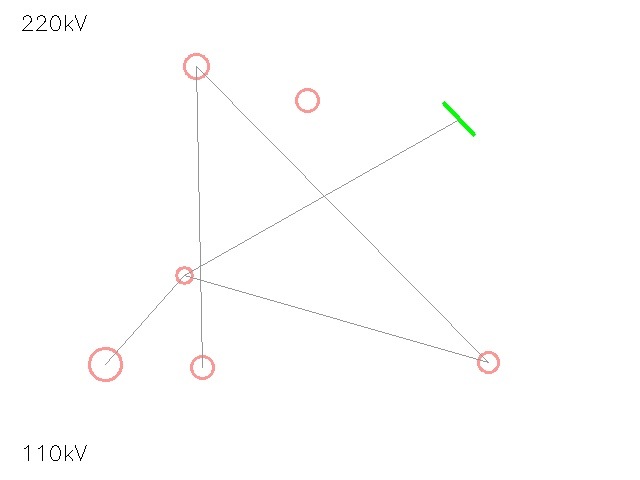busbar: (433, 93, 485, 145)
disconnect_switch: (180, 345, 224, 389)
fuse: (168, 259, 200, 291)
load_break_switch: (172, 42, 220, 90)
reactor: (73, 332, 137, 396)
surge_arrester: (467, 341, 509, 383)
voltage_transformer: (284, 77, 330, 123)
